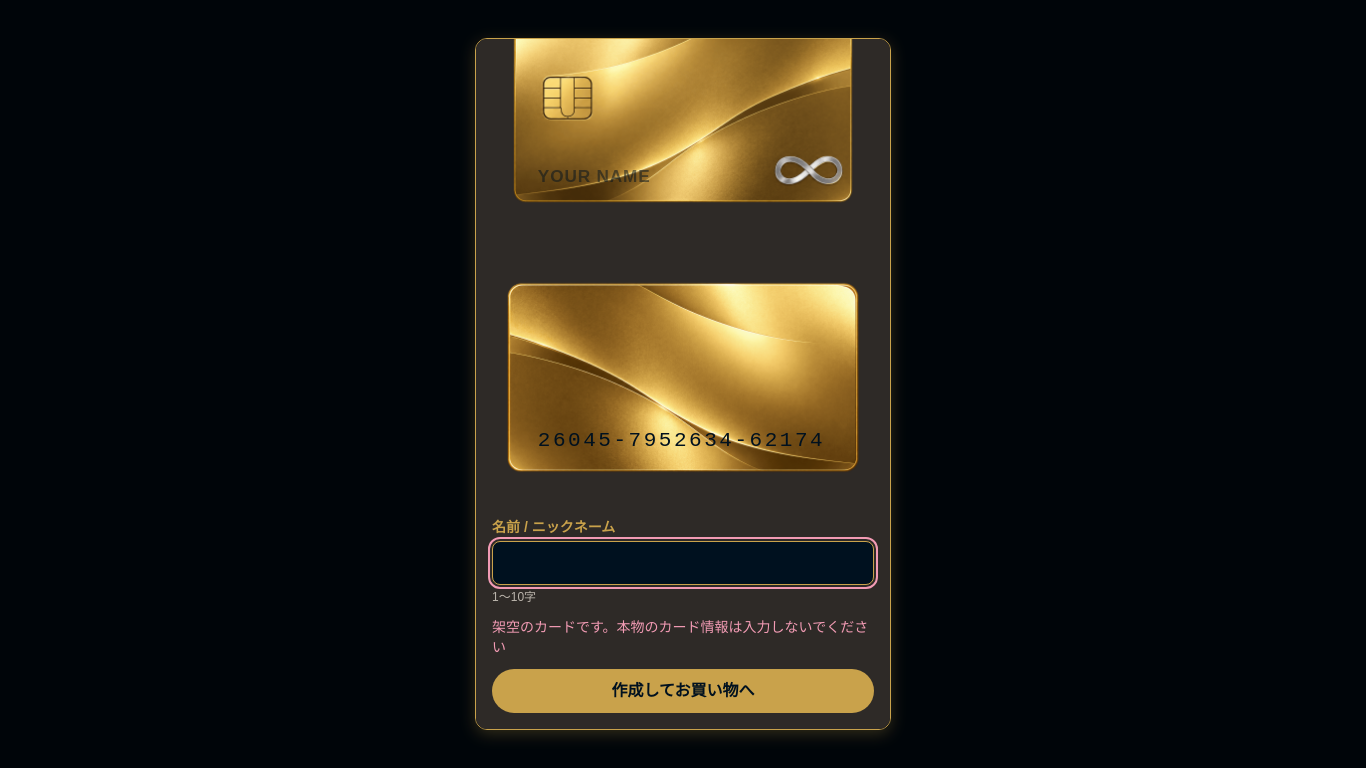
Test: CreateCardModal › 容量がいっぱいのときは、エラーを表示し、作成扱いにしない
(page scrolled)
Type "TARO" into the field labelled "名前 / ニックネーム" at point(683, 563), box [492,541,874,585]
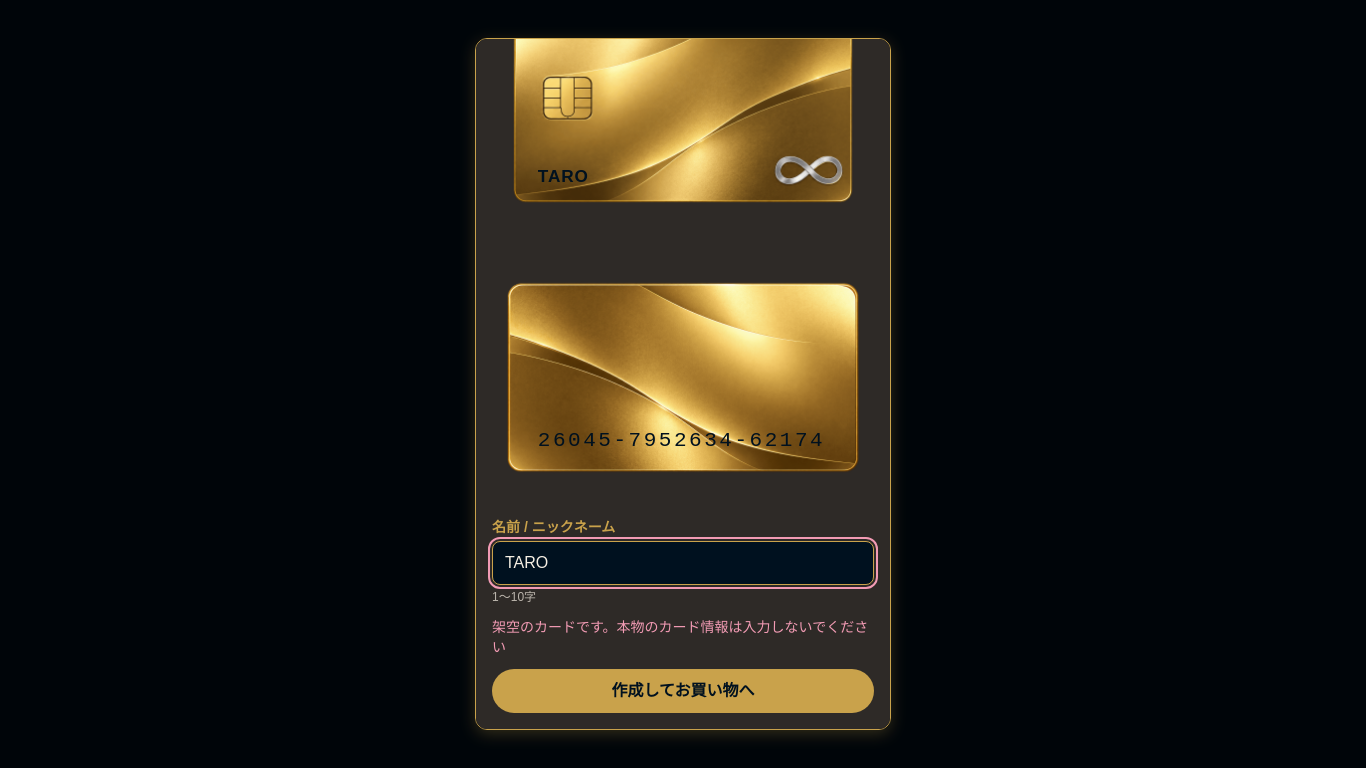
Click the button "作成してお買い物へ" at point(683, 691), box [492,669,874,713]
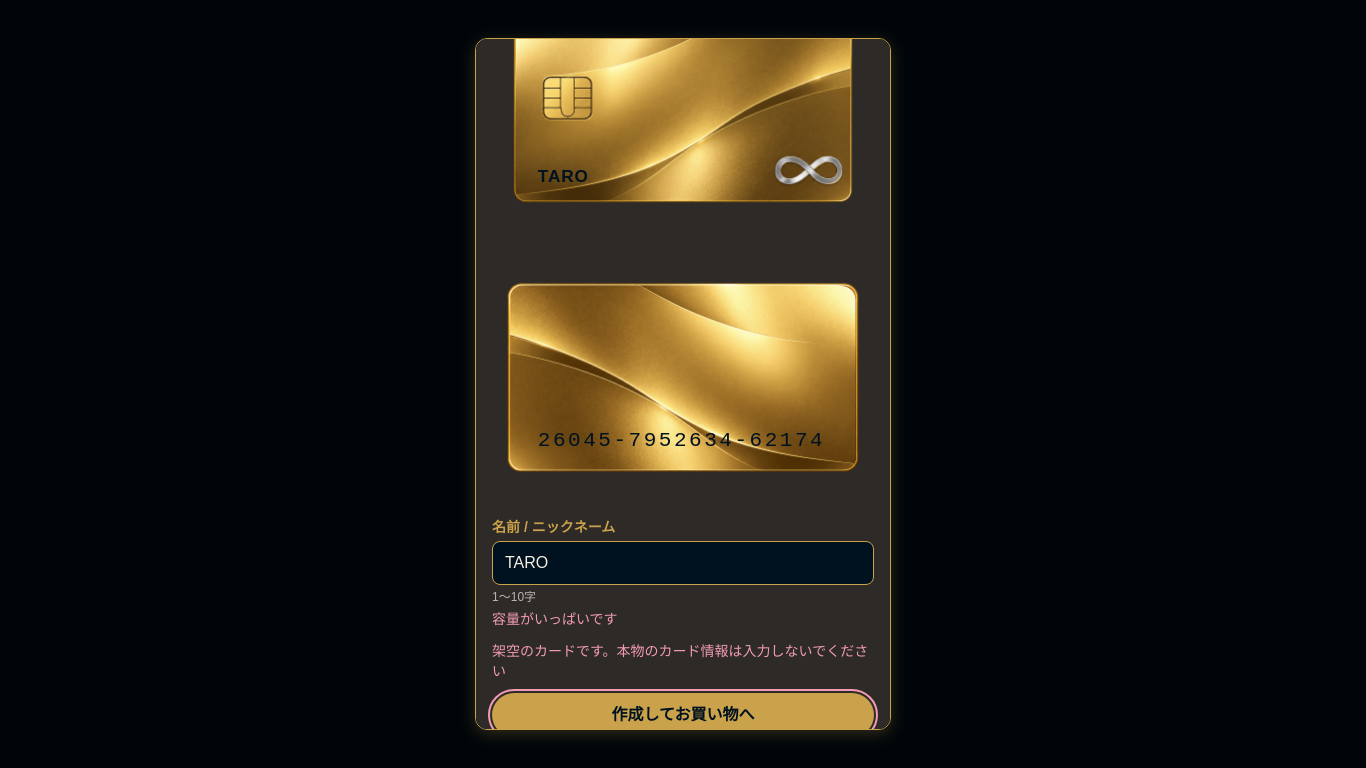
Expected: the message reads "容量がいっぱいです", [492,611,618,627]
